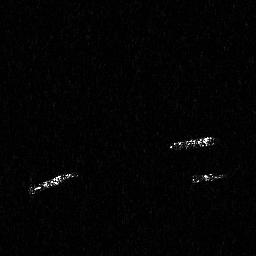ship: (27, 170, 81, 197), (166, 132, 219, 154), (188, 169, 228, 185)
